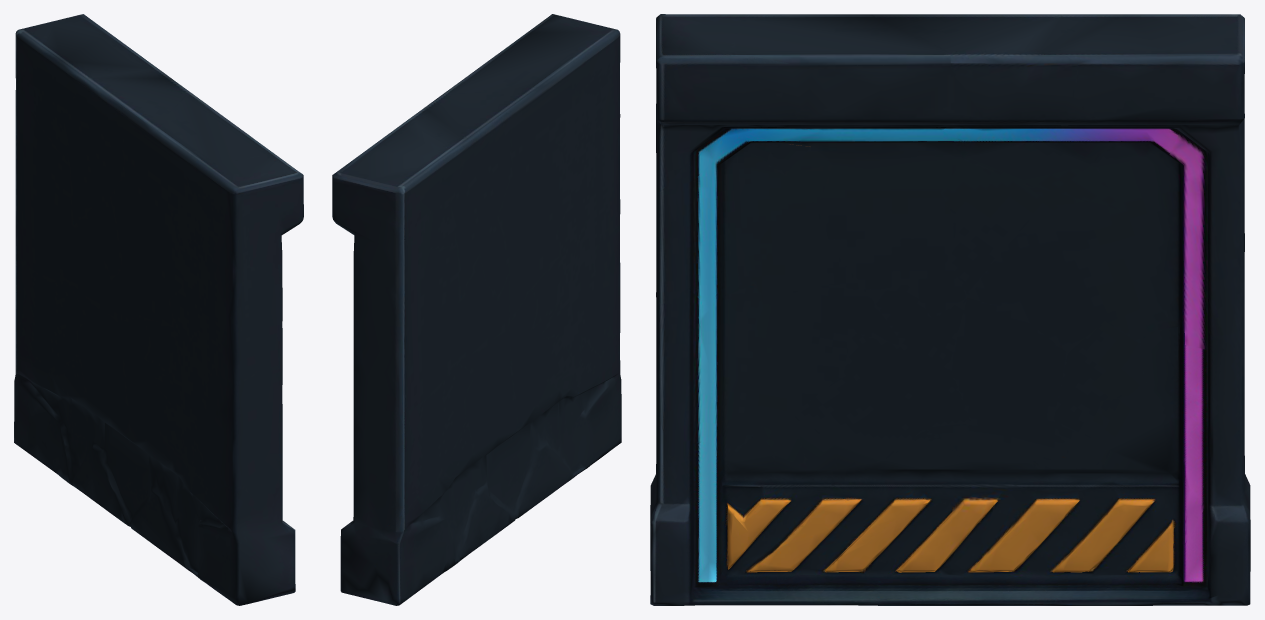
The model's file is LiftingDoor.fbx.
3 views of the same model, side by side, from view 1: azimuth 30°, elevation 25°; view 2: azimuth 150°, elevation 25°; view 3: azimuth 270°, elevation 25° (orthographic). The views are drawn at different scales.
Parts seen in each view (by area): view 1: tripo_node_507bf662; view 2: tripo_node_507bf662; view 3: tripo_node_507bf662.
Boxes of the visible parts, box(x1,y1,x2,y2) form: tripo_node_507bf662: box(14, 14, 303, 605); tripo_node_507bf662: box(332, 14, 621, 605); tripo_node_507bf662: box(650, 14, 1250, 605).
Bounding box in the file's own units: 0.1806 × 0.9999 × 0.9814.
1 material, 1 textured.
